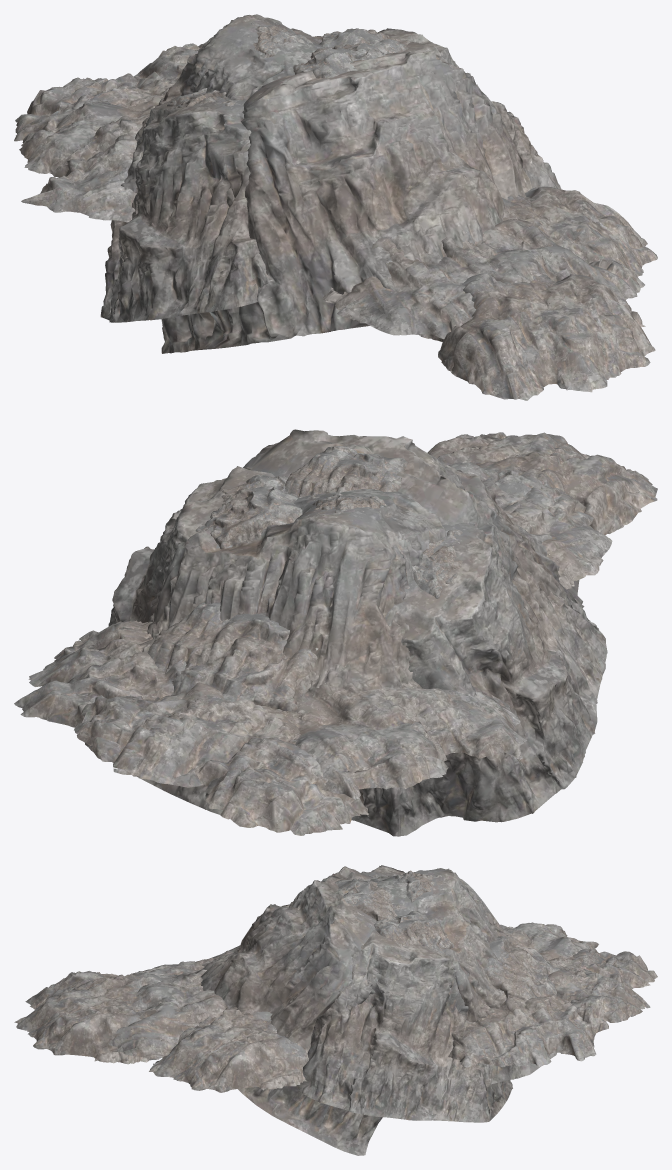
The model's file is cliff_jutting_d.glb.
3 renders of one model, top to bottom at view 1: azimuth 30°, elevation 25°; view 2: azimuth 150°, elevation 25°; view 3: azimuth 270°, elevation 25°, orthographic. The views are drawn at different scales.
Parts seen in each view (by area): view 1: cliff_tall_b_LOD0, cliff_tall_a_LOD0 (×2), cliff_hills_mid_b_LOD0 (×2), cliff_hills_large_d_LOD0, cliff_hills_large_c_LOD0, cliff_tall_slope_l_b_LOD0, cliff_hills_large_a_LOD0, cliff_hills_mid_d_LOD0 (×2), cliff_hills_mid_c_LOD0 (×2); view 2: cliff_tall_a_LOD0 (×2), cliff_tall_slope_l_b_LOD0, cliff_hills_mid_d_LOD0 (×4), cliff_hills_large_a_LOD0, cliff_hills_large_c_LOD0, cliff_tall_b_LOD0, cliff_hills_mid_b_LOD0, cliff_hills_large_d_LOD0, cliff_hills_mid_c_LOD0 (×2); view 3: cliff_tall_a_LOD0, cliff_tall_b_LOD0, cliff_hills_mid_b_LOD0 (×2), cliff_hills_mid_d_LOD0 (×4), cliff_tall_slope_l_b_LOD0, cliff_hills_large_d_LOD0, cliff_hills_large_a_LOD0, cliff_hills_large_c_LOD0, cliff_hills_mid_c_LOD0.
Boxes of the visible parts, bbox=[...] form: cliff_tall_b_LOD0: bbox=[161, 51, 532, 353]; cliff_tall_a_LOD0 (×2): bbox=[100, 28, 561, 322]; cliff_hills_mid_b_LOD0 (×2): bbox=[418, 186, 657, 400]; cliff_hills_large_d_LOD0: bbox=[323, 198, 640, 339]; cliff_hills_large_c_LOD0: bbox=[19, 100, 158, 222]; cliff_tall_slope_l_b_LOD0: bbox=[135, 14, 329, 140]; cliff_hills_large_a_LOD0: bbox=[14, 42, 206, 146]; cliff_hills_mid_d_LOD0 (×2): bbox=[293, 28, 409, 78]; cliff_hills_mid_c_LOD0 (×2): bbox=[167, 22, 312, 108]; cliff_tall_a_LOD0 (×2): bbox=[85, 466, 607, 836]; cliff_tall_slope_l_b_LOD0: bbox=[147, 489, 445, 697]; cliff_hills_mid_d_LOD0 (×4): bbox=[14, 446, 407, 727]; cliff_hills_large_a_LOD0: bbox=[74, 682, 393, 835]; cliff_hills_large_c_LOD0: bbox=[276, 681, 527, 799]; cliff_tall_b_LOD0: bbox=[243, 429, 605, 681]; cliff_hills_mid_b_LOD0: bbox=[427, 432, 657, 534]; cliff_hills_large_d_LOD0: bbox=[448, 462, 612, 589]; cliff_hills_mid_c_LOD0 (×2): bbox=[312, 493, 462, 598]; cliff_tall_a_LOD0: bbox=[296, 930, 512, 1122]; cliff_tall_b_LOD0: bbox=[194, 866, 382, 1155]; cliff_hills_mid_b_LOD0 (×2): bbox=[14, 971, 307, 1092]; cliff_hills_mid_d_LOD0 (×4): bbox=[335, 878, 608, 1067]; cliff_tall_slope_l_b_LOD0: bbox=[370, 868, 556, 1084]; cliff_hills_large_d_LOD0: bbox=[108, 950, 272, 1058]; cliff_hills_large_a_LOD0: bbox=[548, 948, 657, 1024]; cliff_hills_large_c_LOD0: bbox=[500, 922, 598, 960]; cliff_hills_mid_c_LOD0: bbox=[395, 870, 441, 902].
Size of the model in its own units: 54.47 by 31.77 by 89.76.
Materials: 9 (9 with a texture image).
